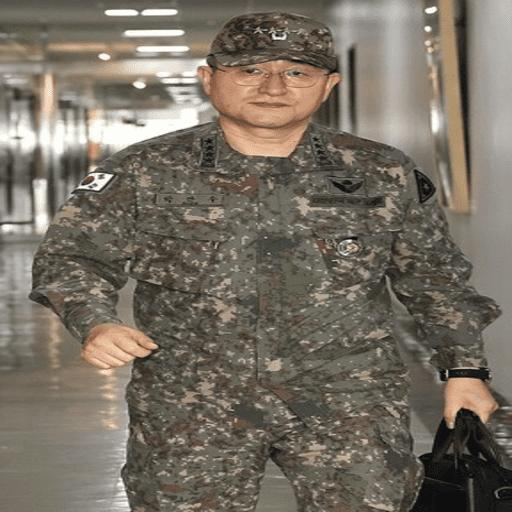korea army: (28, 10, 502, 510)
